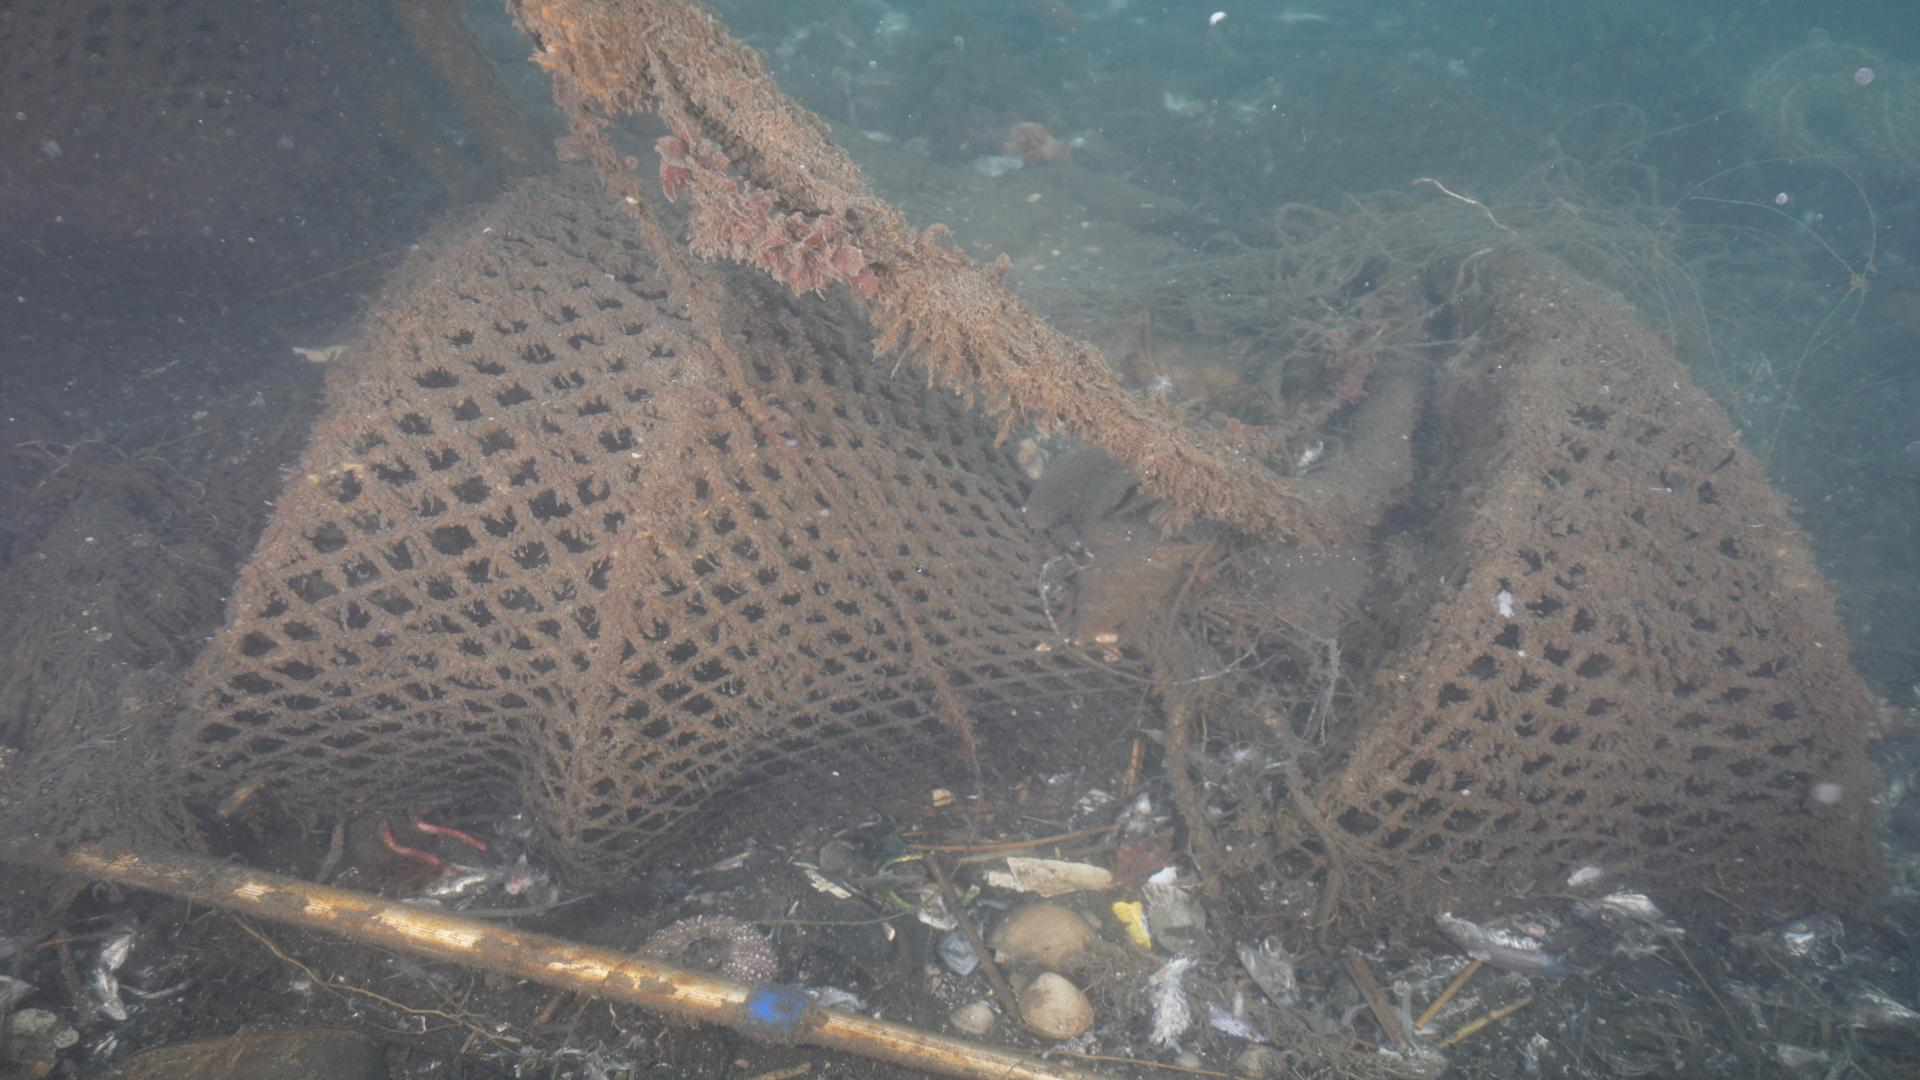spring fish trap: (161, 137, 1902, 919)
